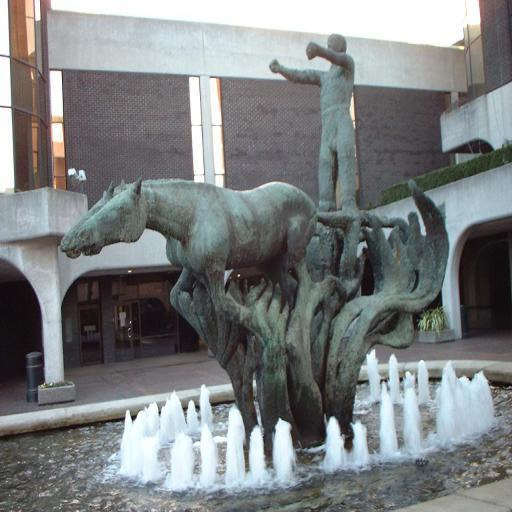horse: (76, 175, 403, 327), (58, 178, 183, 270)
